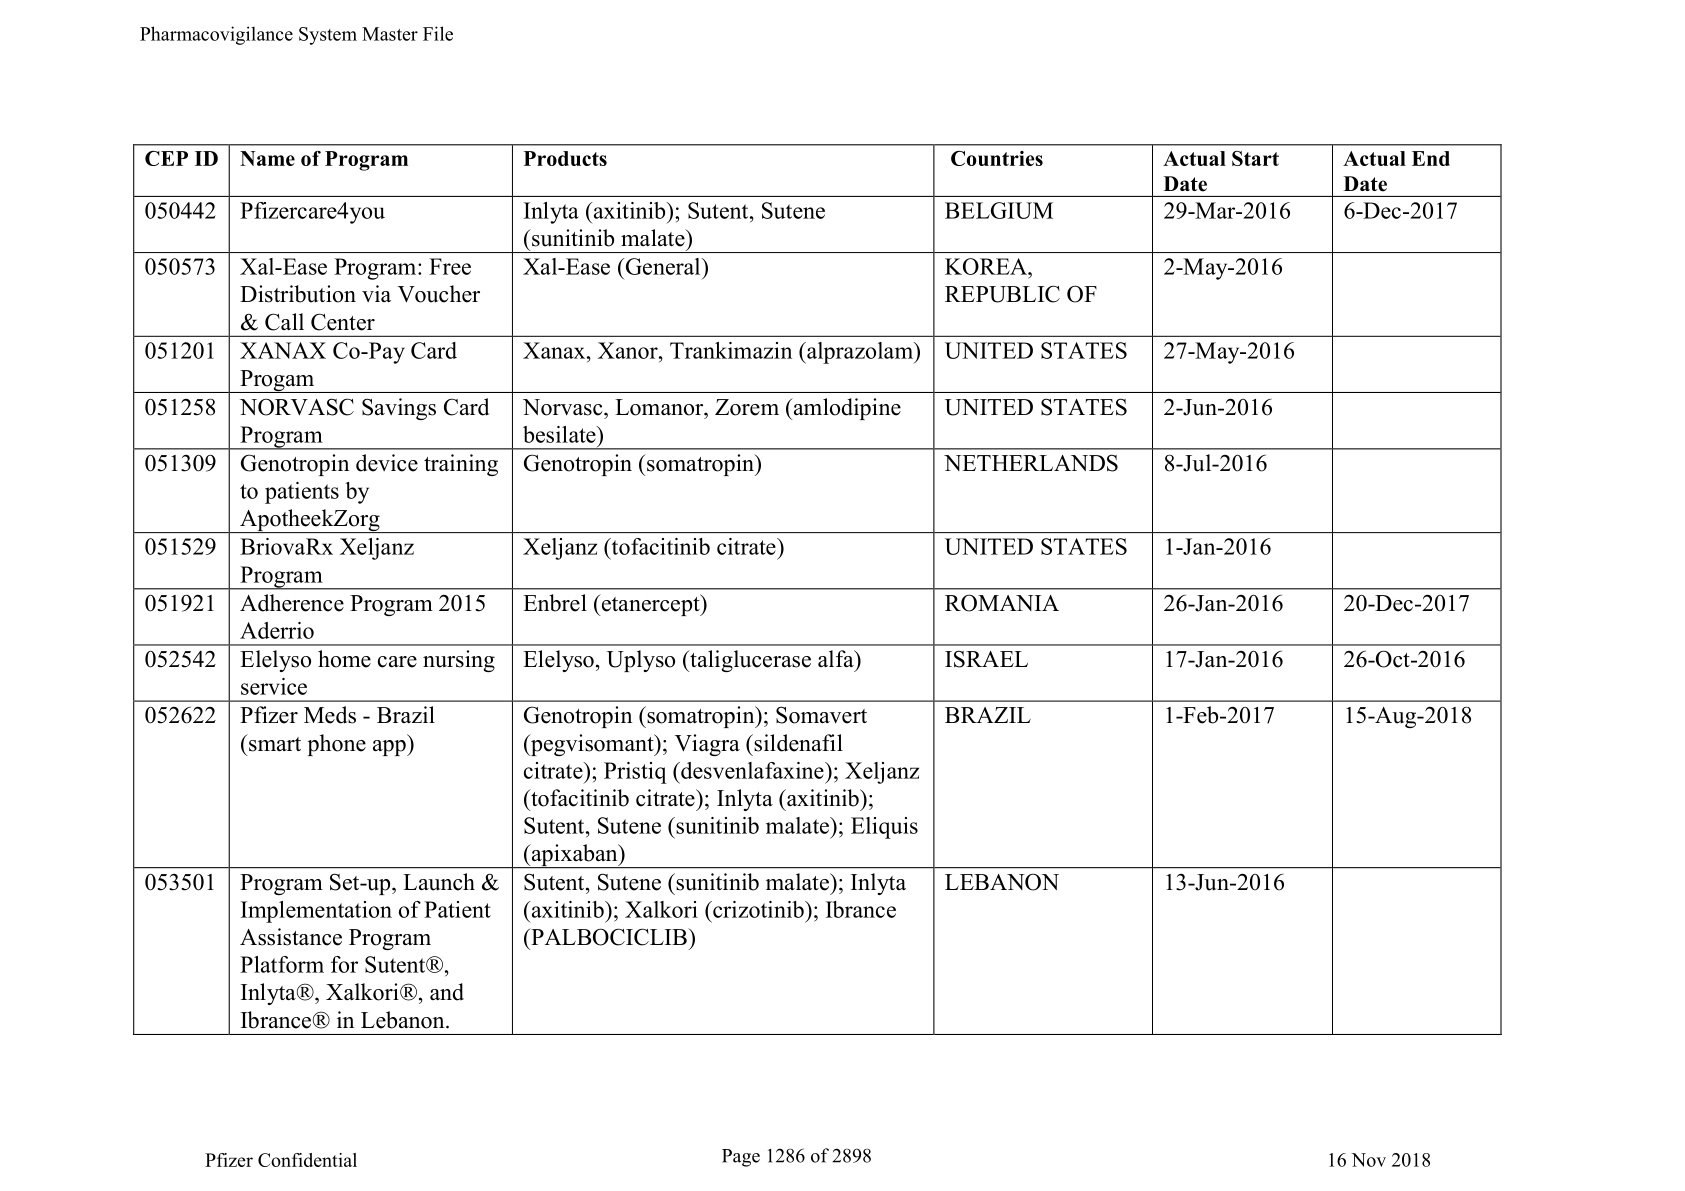full_lined: (133, 144, 1502, 1036)
